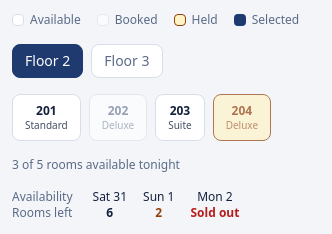
Scenario: RoomMap › shows floor tabs and switches floors on click
Expected: the tab "Floor 2" is shown, [12,44,83,78]
Click the tab "Floor 3". click: (127, 61)
box: [91,44,163,78]
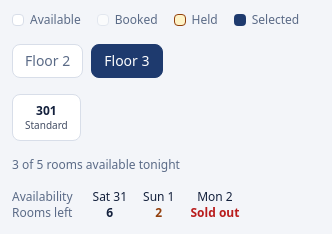
Expected: the button with aria-label "Room 301" is shown, [12,94,81,141]
